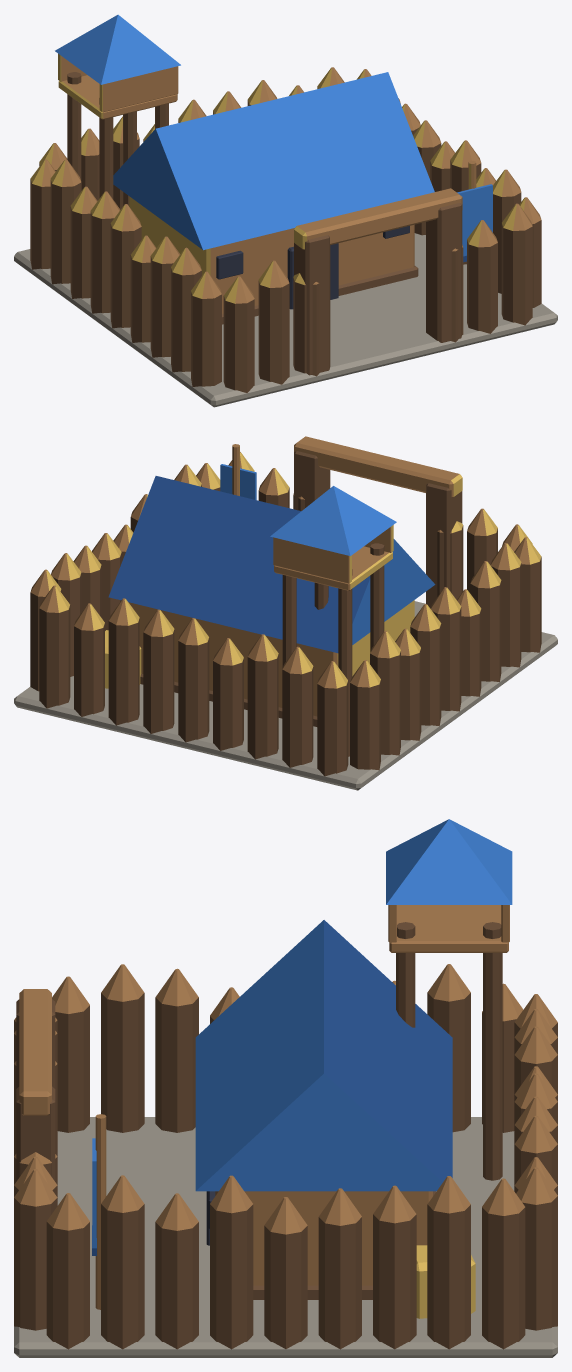
The model's file is HQ_Meadow.fbx.
3 views of the same model, one above another, from view 1: azimuth 30°, elevation 25°; view 2: azimuth 150°, elevation 25°; view 3: azimuth 270°, elevation 25° (orthographic). The views are drawn at different scales.
Visible parts, largest first — view 1: HQ_Meadow; view 2: HQ_Meadow; view 3: HQ_Meadow.
Part boxes in pixels (bbox=[...]): HQ_Meadow: bbox=[14, 14, 557, 407]; HQ_Meadow: bbox=[14, 436, 557, 790]; HQ_Meadow: bbox=[14, 819, 557, 1357].
Size of the model in its own units: 5 by 3.6 by 5.
